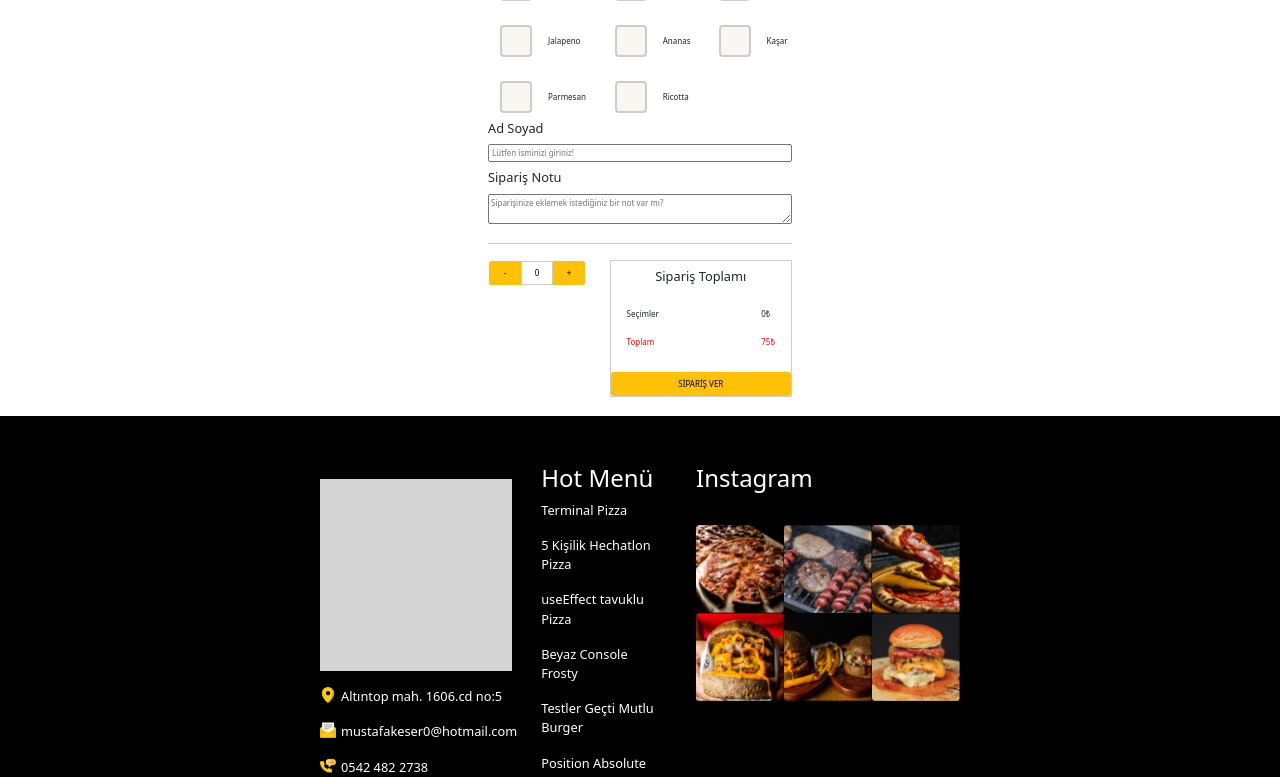
OrderForm Testleri › Zorunlu alanlar boşken form gönderilemez ve hata mesajları gösterilir
The image size is (1280, 777).
(page scrolled)
Click the button "SİPARİŞ VER" at [701, 384], box [611, 372, 791, 396]
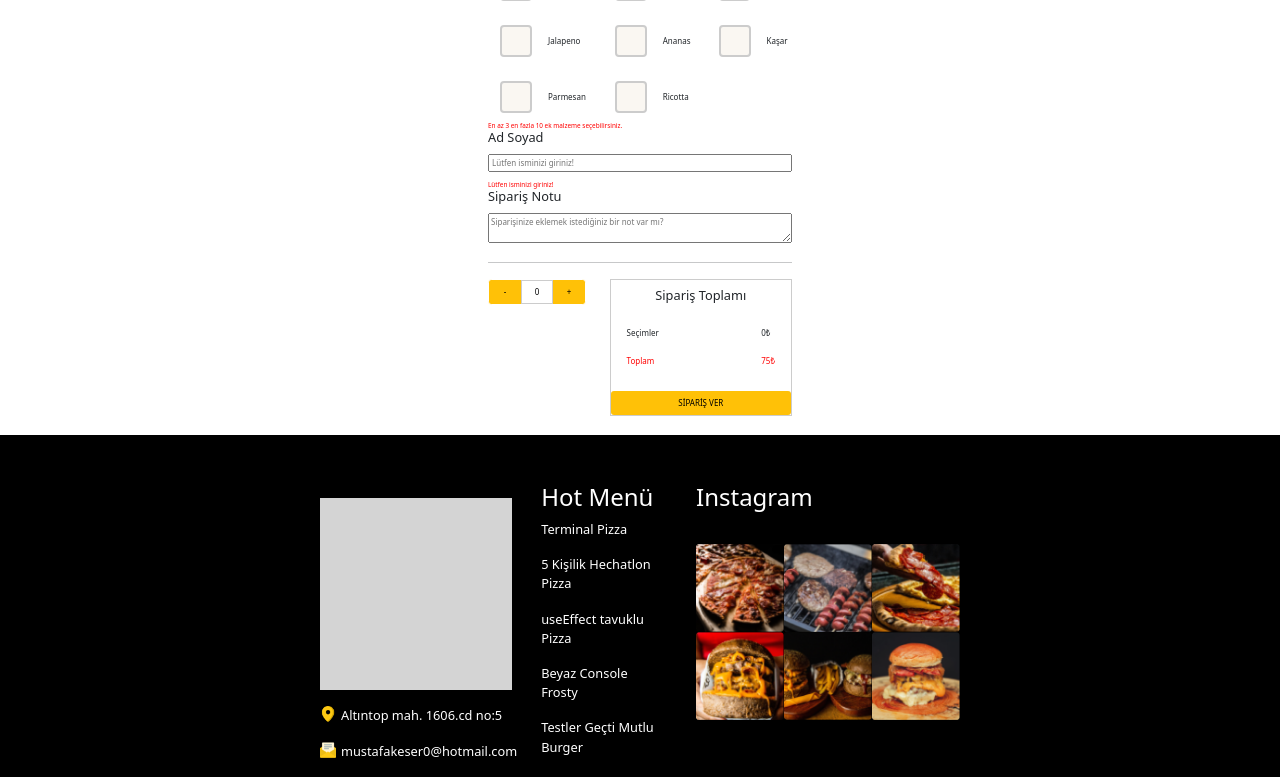
Result: the text "En az 3 en fazla 10 ek malzeme seçebilirsiniz." is shown at [488, 121, 622, 130]
Result: the text "Lütfen isminizi giriniz!" is shown at [488, 180, 554, 189]
